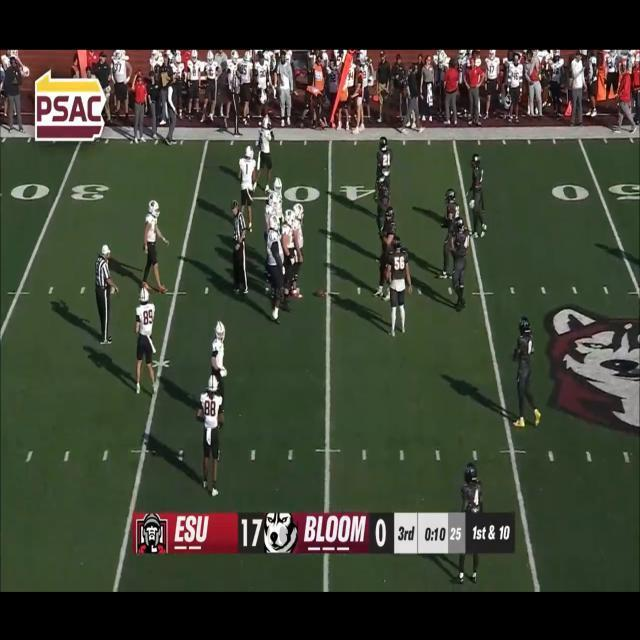football: (310, 284, 328, 302)
